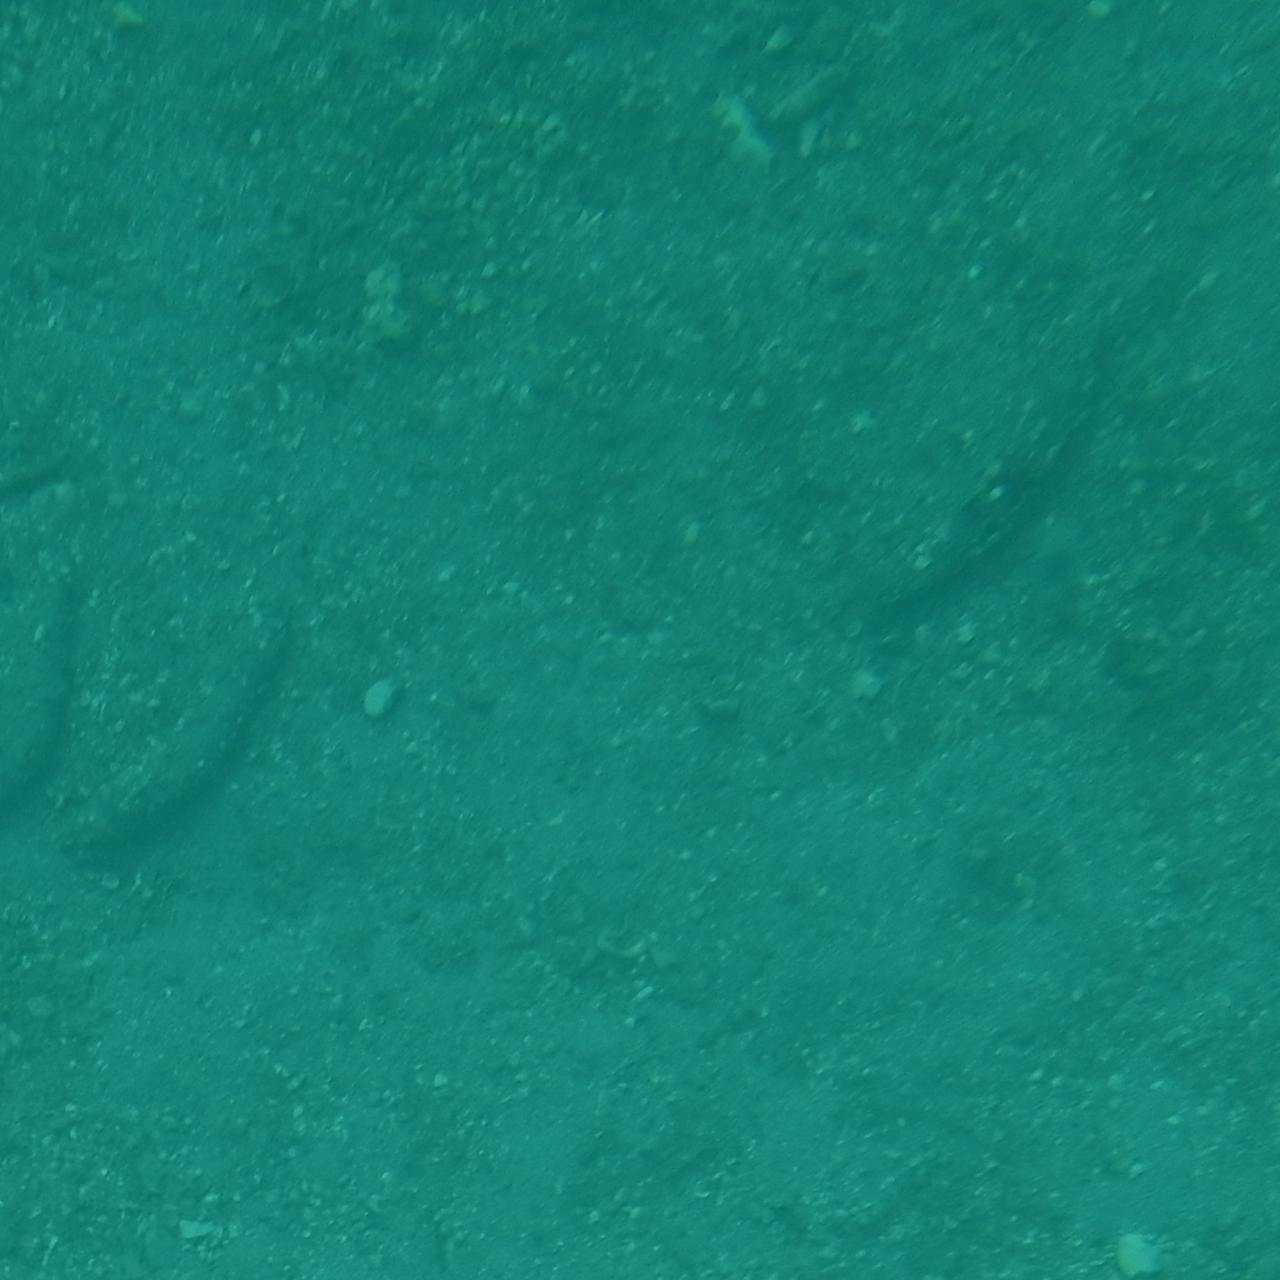Holothuria tubulosa: (797, 300, 1175, 655), (72, 594, 322, 884), (1169, 150, 1280, 592), (0, 527, 120, 819), (0, 726, 82, 1092)
